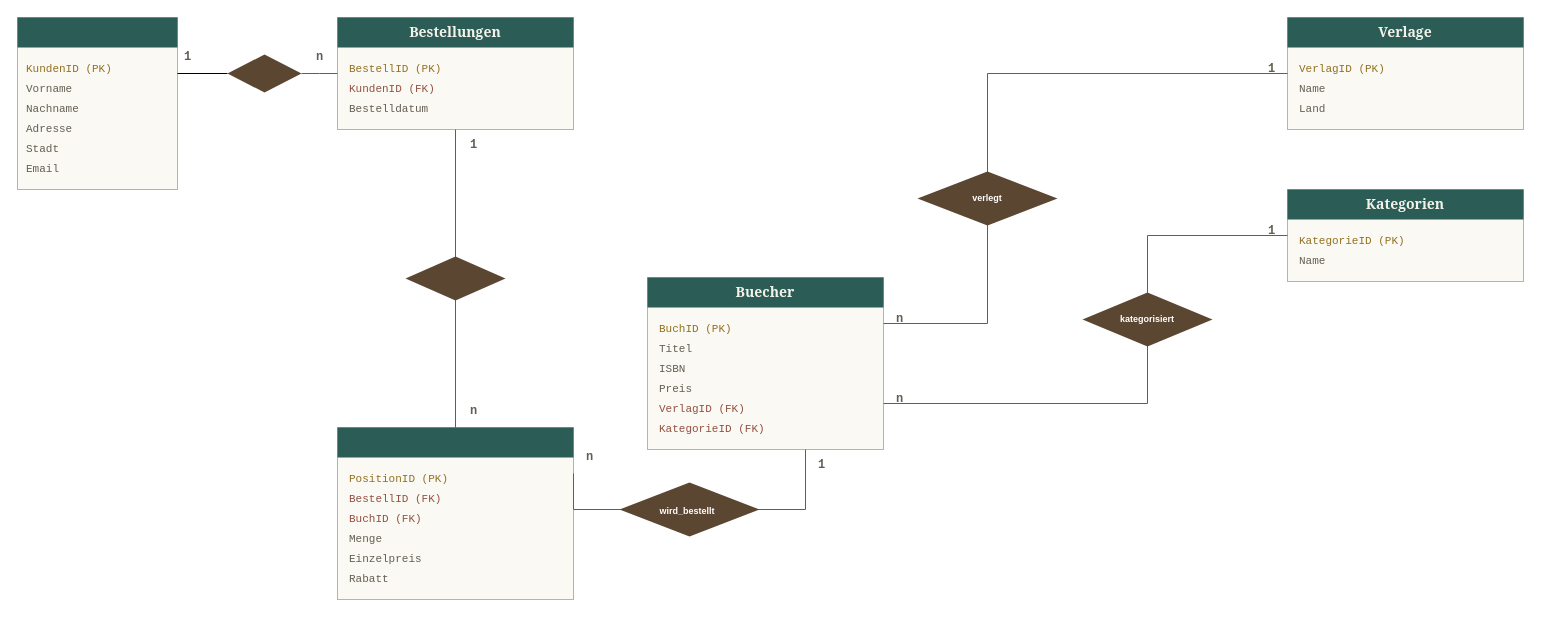
The diagram is 1541 pixels wide and 617 high, and some of its shapes have lost their labels. The centre of each missing label's shape, as x and y in pixels:
"Bestellpositionen" goes at (x=455, y=442).
"enthaelt" goes at (x=455, y=278).
"Kunden" goes at (x=97, y=32).
"taetigt" goes at (x=264, y=73).
